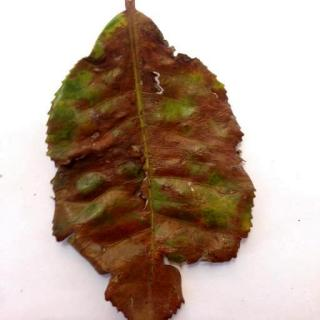Algal Leaf: (49, 1, 258, 320)
